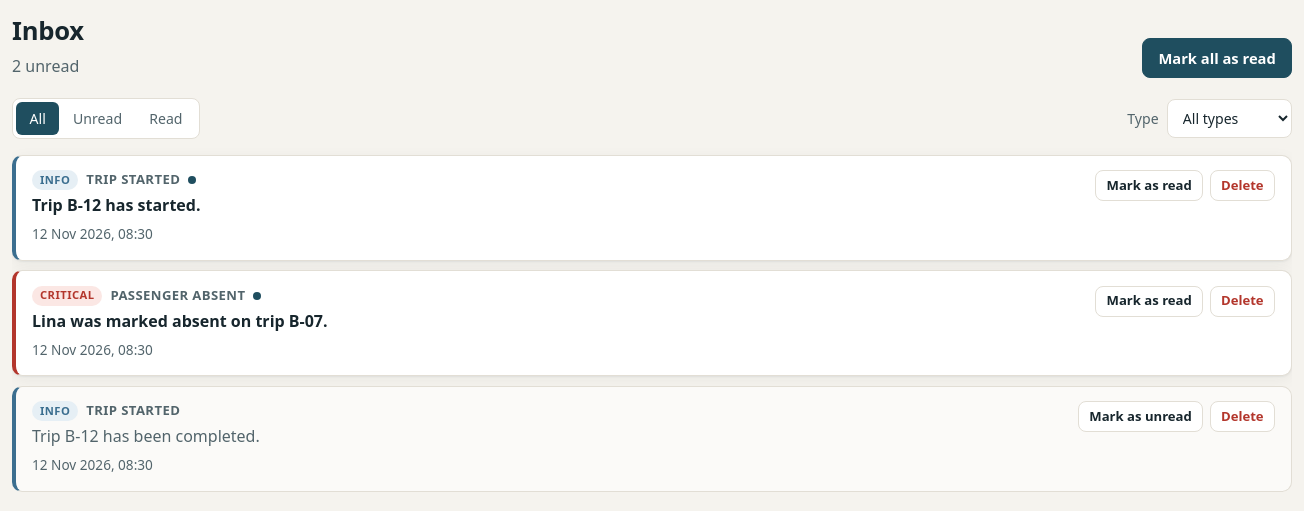
Test: NotificationsPage › marks a read notification as unread
The image size is (1304, 511).
Step 1. Click the button "Mark as unread" → (1141, 417), box [1078,401,1203,432]
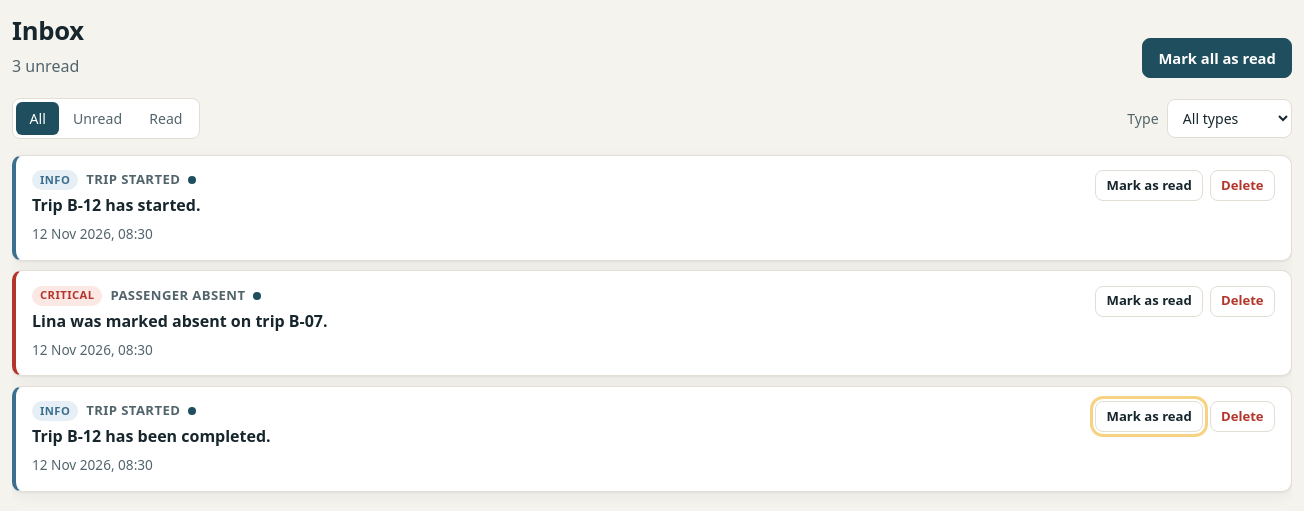
Check: the text "3 unread" is shown, box [12,54,84,78]
